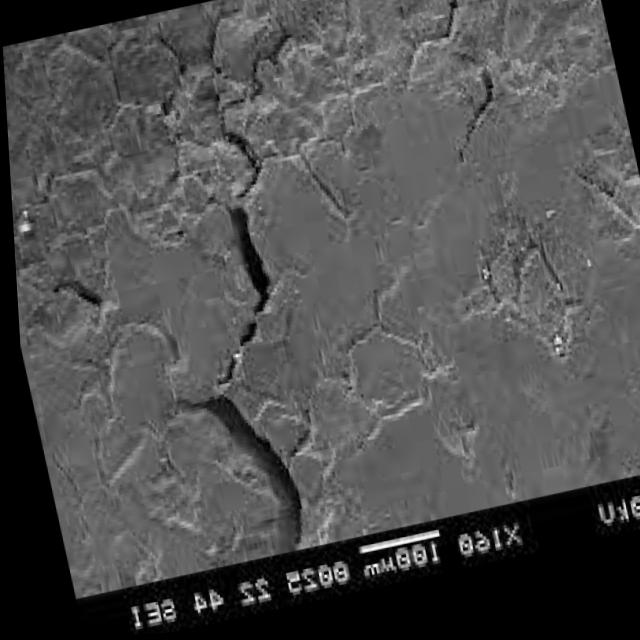Crack: (65, 12, 272, 498)
